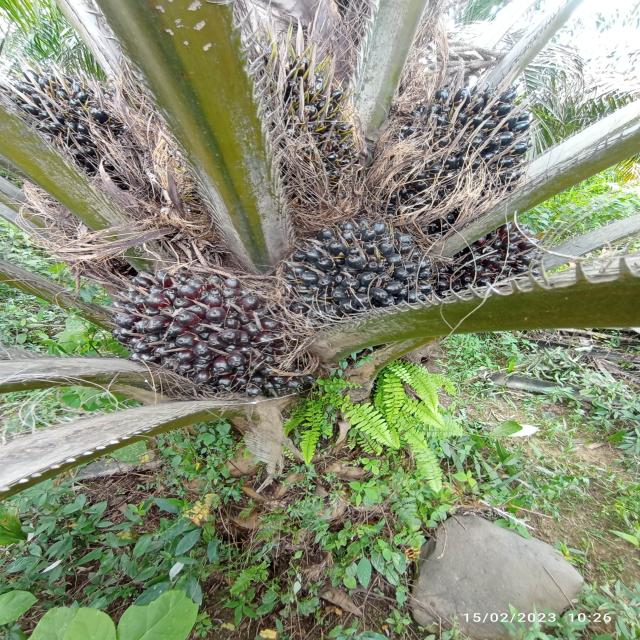fraksi 00: (103, 247, 293, 411), (263, 192, 443, 327), (0, 46, 153, 196), (389, 64, 546, 210), (443, 212, 558, 316)
